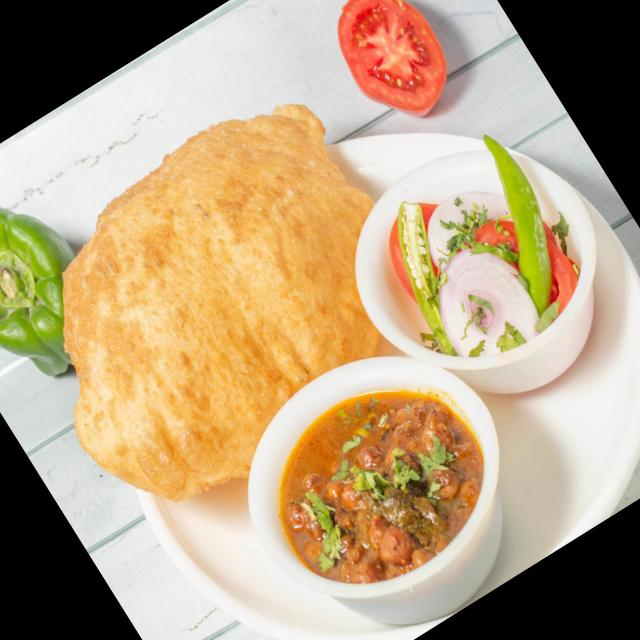Bhatura: (0, 70, 462, 541)
Chole: (248, 349, 520, 616)
